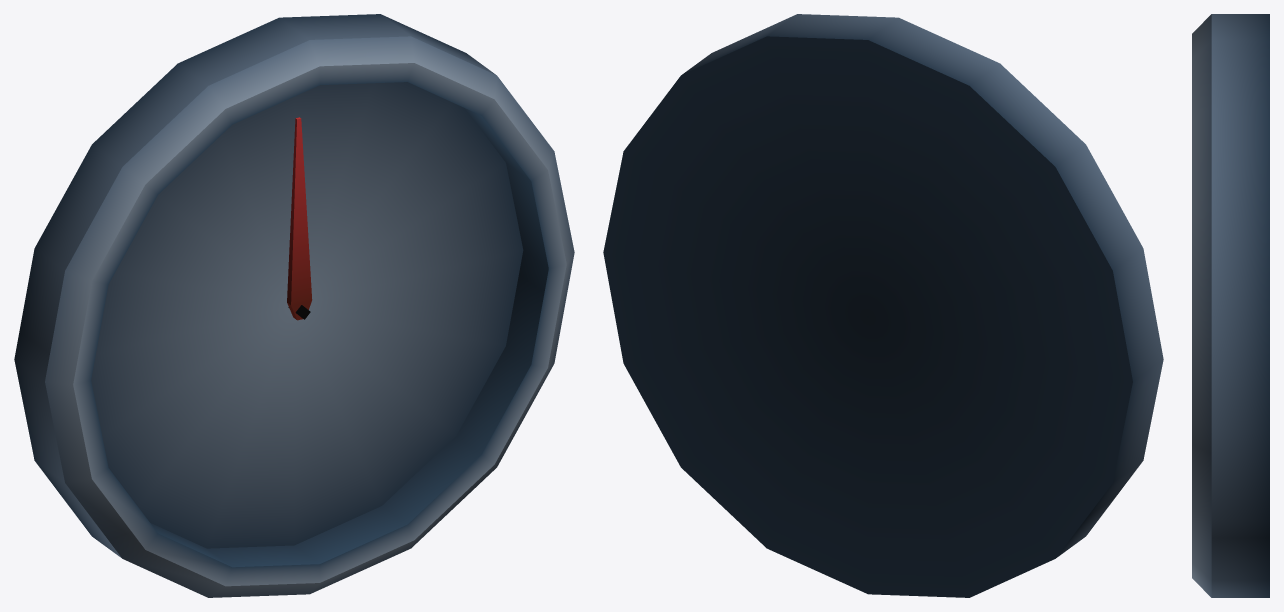
File: H&J_Reloj.fbx
3 views of the same model, side by side, from view 1: azimuth 30°, elevation 25°; view 2: azimuth 150°, elevation 25°; view 3: azimuth 270°, elevation 25° (orthographic). The views are drawn at different scales.
Parts seen in each view (by area): view 1: Reloj, Manejilla; view 2: Reloj; view 3: Reloj.
Part boxes in pixels (<box>): Reloj: <box>14,14,574,597</box>; Manejilla: <box>287,117,312,320</box>; Reloj: <box>603,14,1163,597</box>; Reloj: <box>1192,14,1269,597</box>.
Bounding box in the file's own units: 66 × 66 × 8.8.
